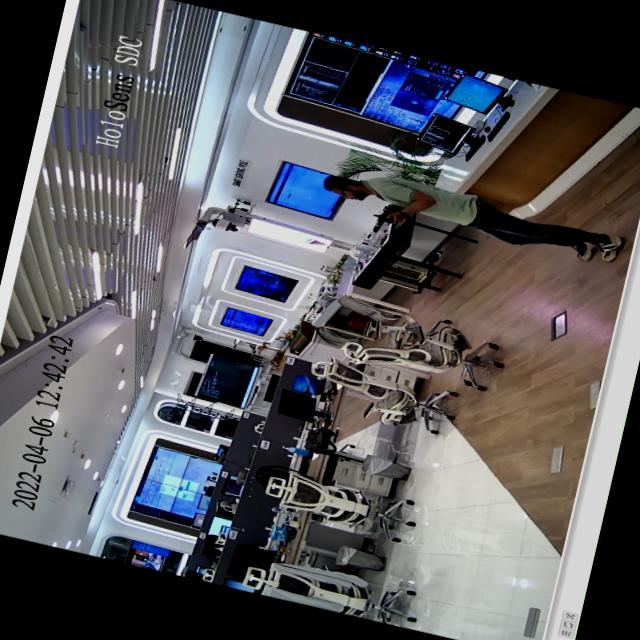long weapon: (367, 194, 418, 233)
